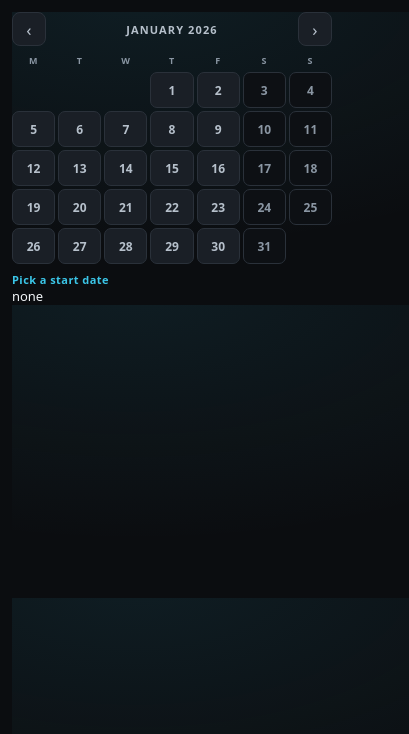
Test case: RangePicker › reads the chosen span back in words
Check: the text with test id "range-selection" reads "Pick a start date", box 12,272 -> 109,287
Click the button "5".
click(34, 129)  # box 12,111 -> 55,147
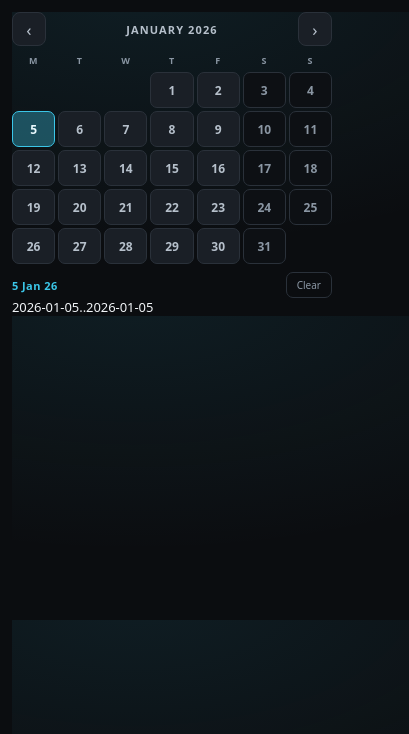
Click the button "18".
click(310, 168)  # box 289,150 -> 332,186
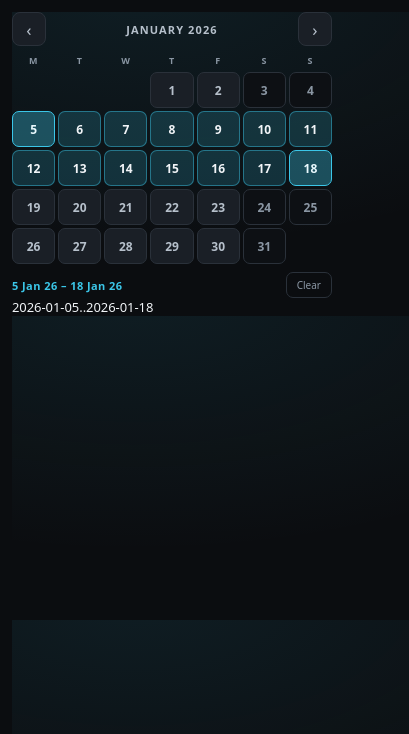
Check: the text with test id "range-selection" reads "5 Jan 26 – 18 Jan 26", box 12,278 -> 122,292
